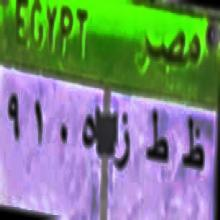0: (58, 114, 70, 156)
1: (29, 92, 47, 158)
5: (80, 108, 96, 160)
9: (5, 86, 22, 152)
Taa: (144, 101, 168, 177)
Thaa: (177, 110, 205, 176)
zay: (111, 106, 132, 181)
